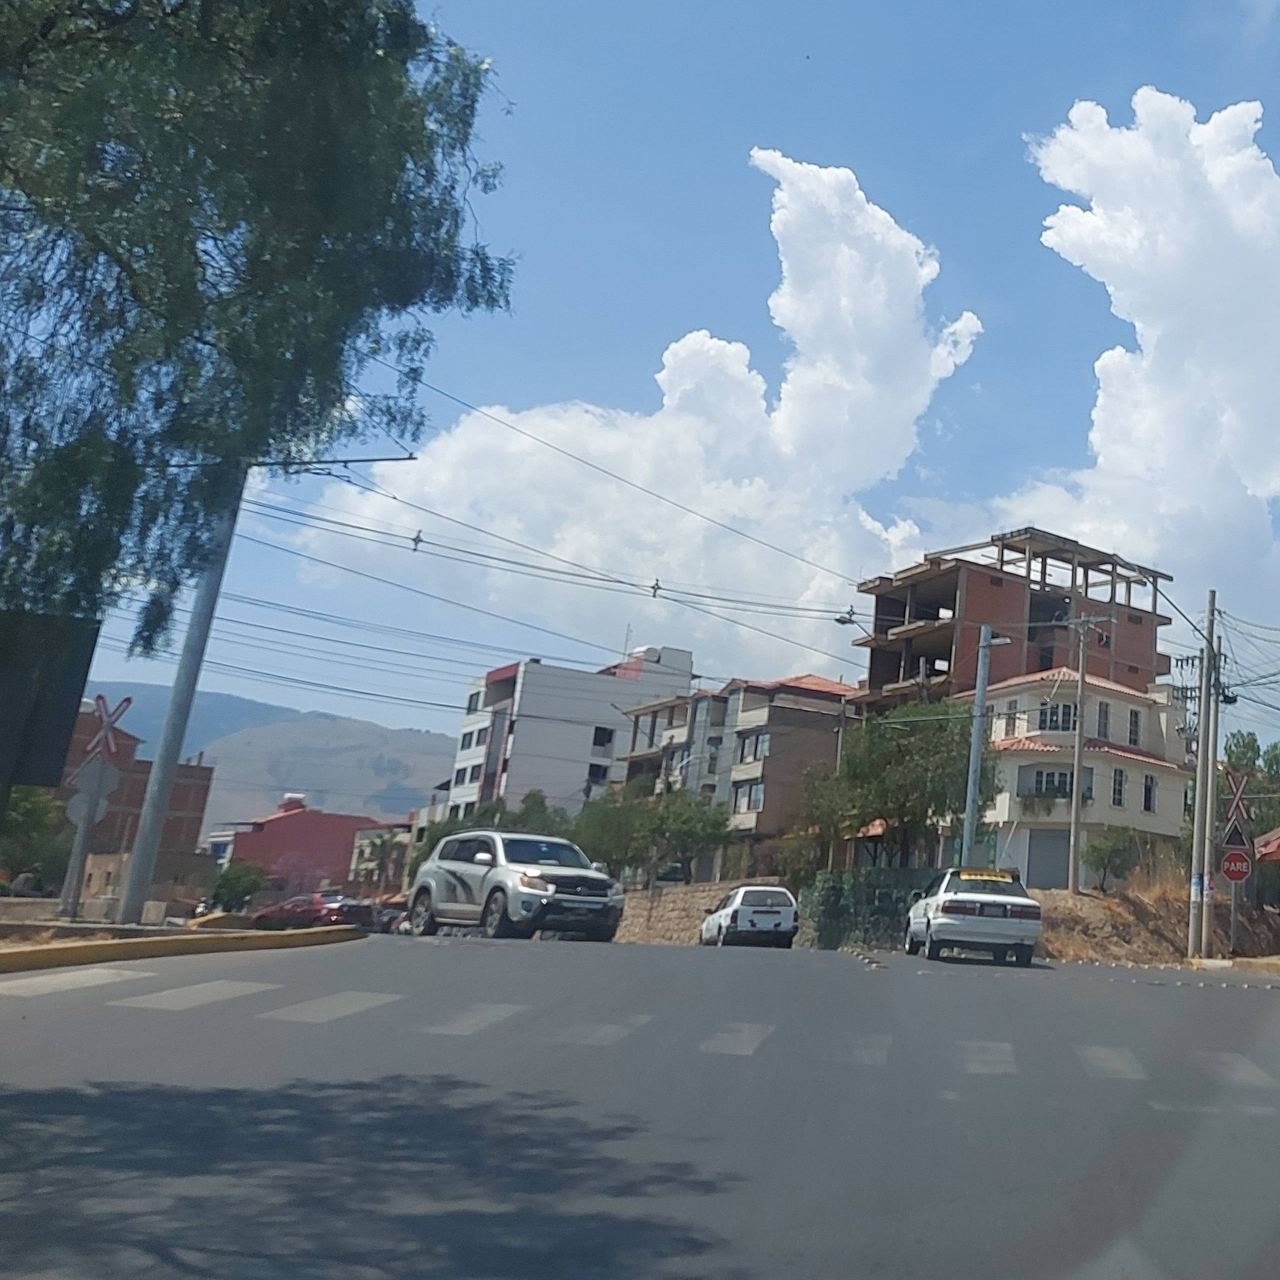pare: (1221, 851, 1252, 880)
